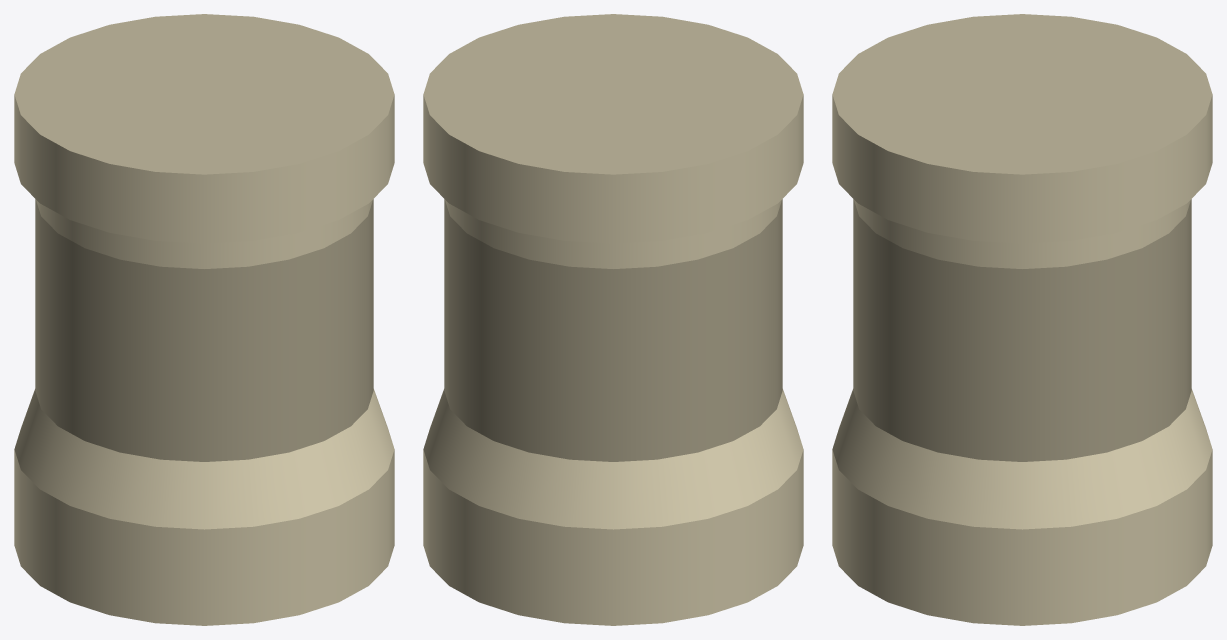
Rendered from towerBase.obj.
The picture shows the model from 3 angles, left to right: view 1: azimuth 30°, elevation 25°; view 2: azimuth 150°, elevation 25°; view 3: azimuth 270°, elevation 25°; orthographic projection.
Visible parts, largest first — view 1: towerBase; view 2: towerBase; view 3: towerBase.
Part boxes in pixels (x1=…): towerBase: x1=14, y1=14, x2=394, y2=625; towerBase: x1=423, y1=14, x2=803, y2=625; towerBase: x1=832, y1=14, x2=1212, y2=625.
Size of the model in its own units: 10 by 13.1 by 10.
